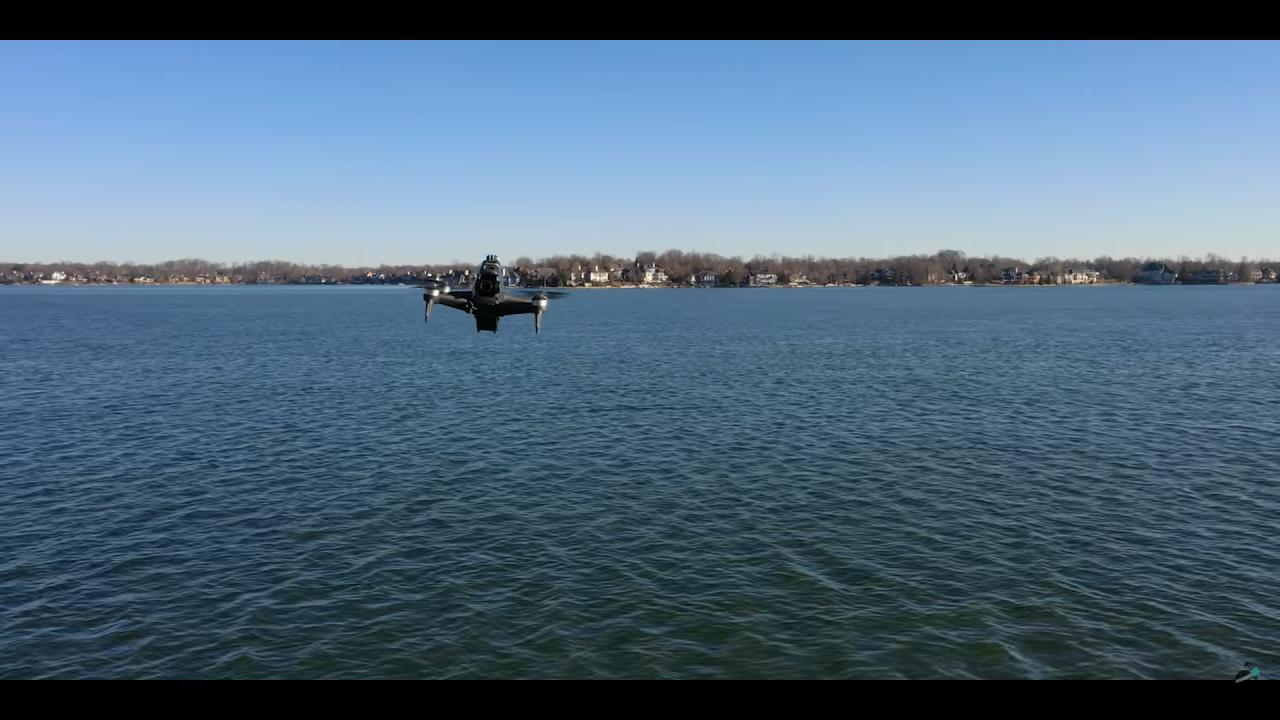Drone: (401, 248, 575, 345)
